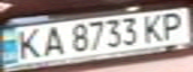3: (118, 15, 145, 46), (103, 17, 127, 48)
7: (84, 19, 109, 51)
8: (66, 20, 90, 53)
A: (36, 25, 69, 56)
K: (9, 26, 48, 61), (139, 11, 172, 43)
P: (154, 10, 190, 39)
